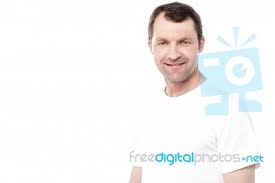white_male: (139, 20, 200, 75)
